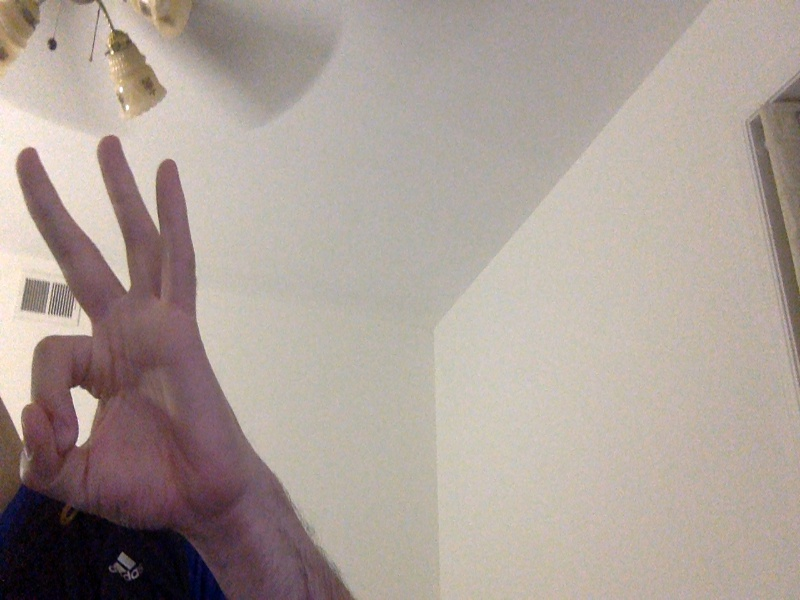3-hand: (13, 133, 239, 545)
